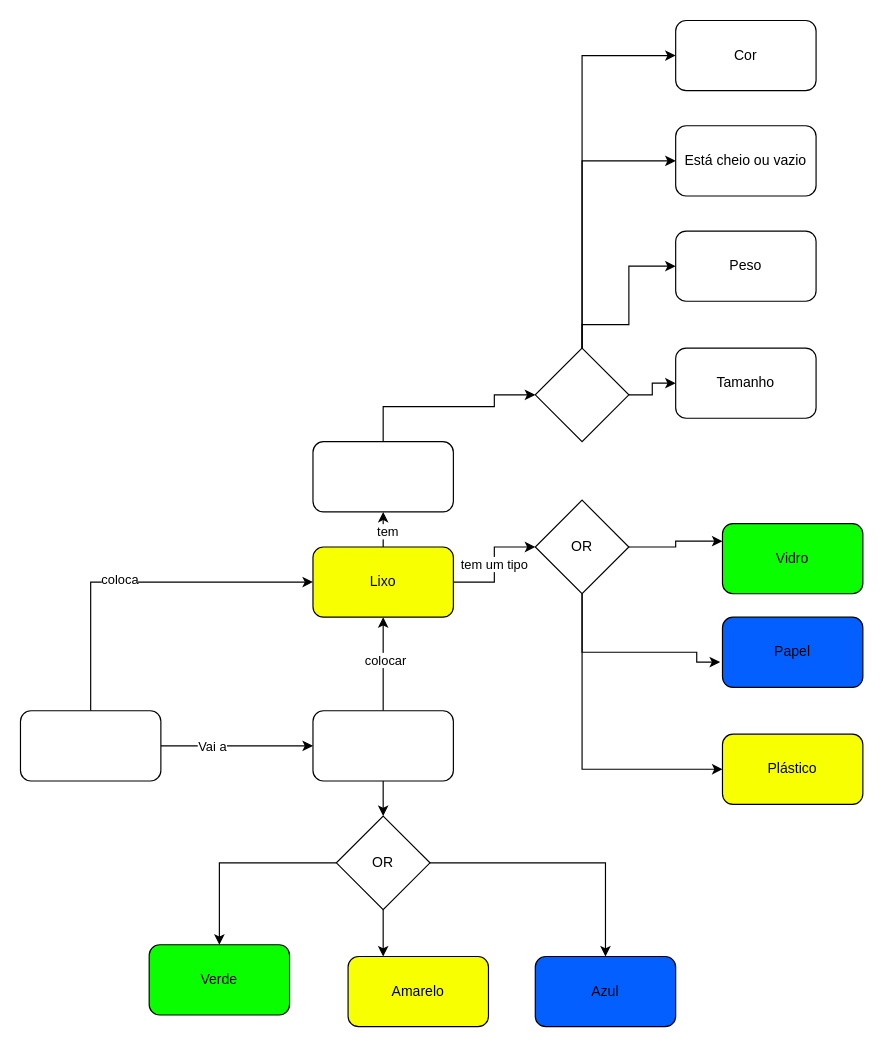
The diagram is 883 pixels wide and 1047 high, and some of its shapes have lost their labels. Here are the shapes that lost their labels. From the top down, the centre of each, then its label:
point (382, 476): Várias Features
point (90, 745): Pessoa/Funcionário /Aluno/Professor
point (382, 745): Um ou mais Contentores de reciclagem
